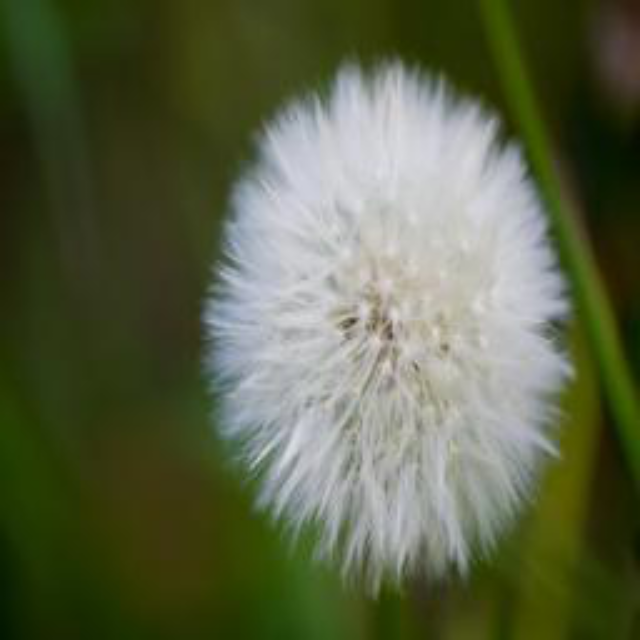dandelion: (189, 46, 582, 607)
